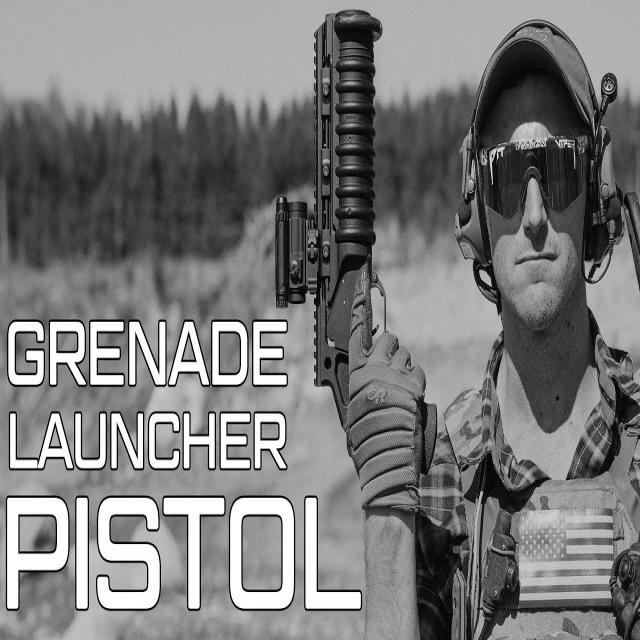Lancher: (283, 3, 438, 489)
